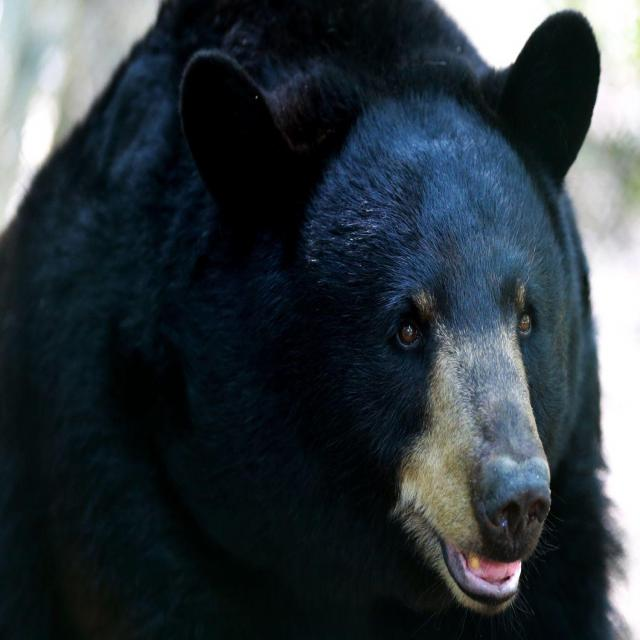Bear: (0, 0, 631, 640)
